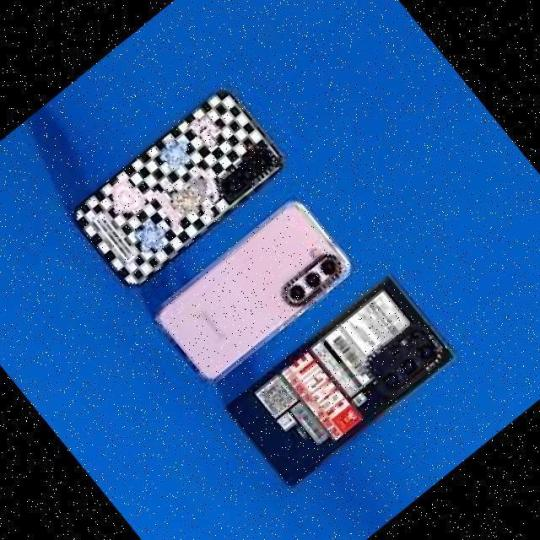phone: (218, 268, 459, 498), (79, 77, 287, 293), (148, 200, 354, 382)
